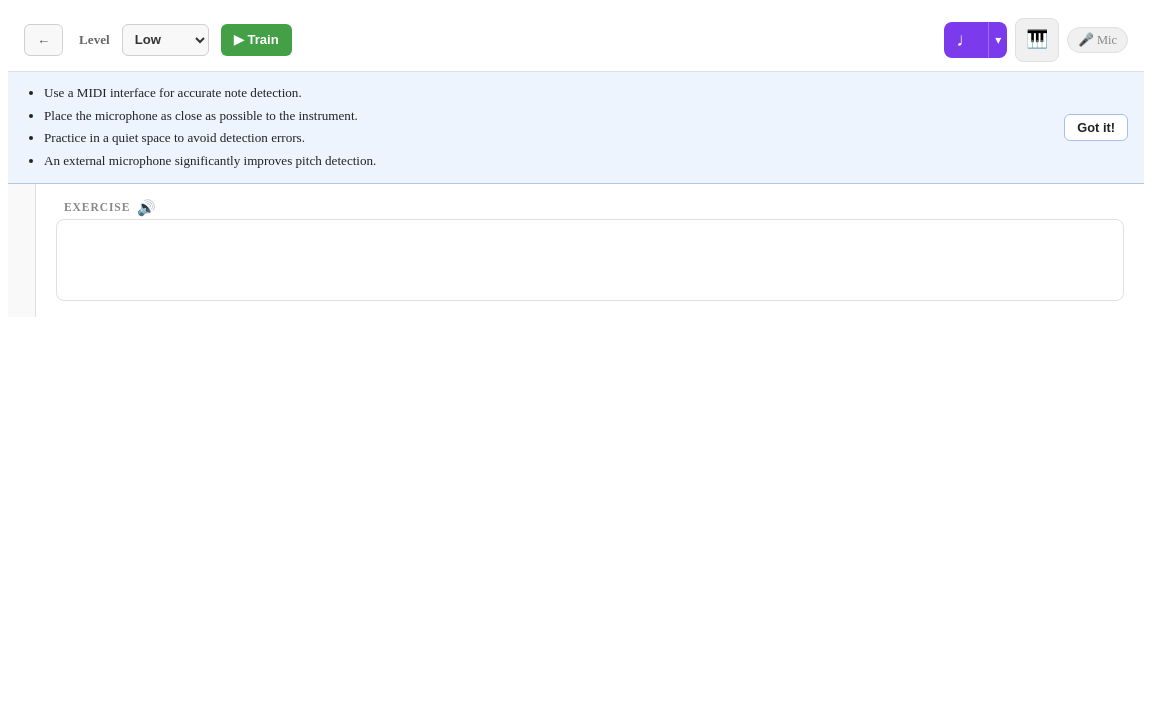
Test: TrainPlugin › results phase › shows a score and result panel after exercise completes
Select "Flow" in the dropdown named "mode" at [29, 224], box [22,210,37,238]
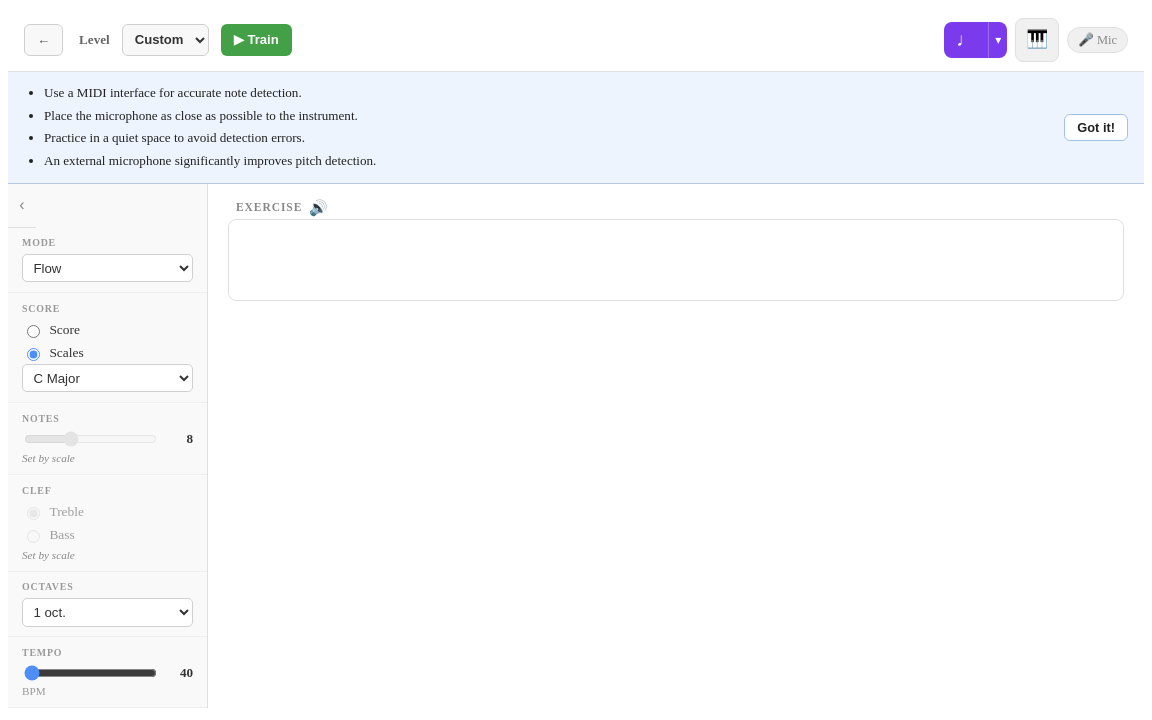
Click the button with test id "train-play-btn" at [256, 40], box [221,24,292,56]
Wait 20000 ms
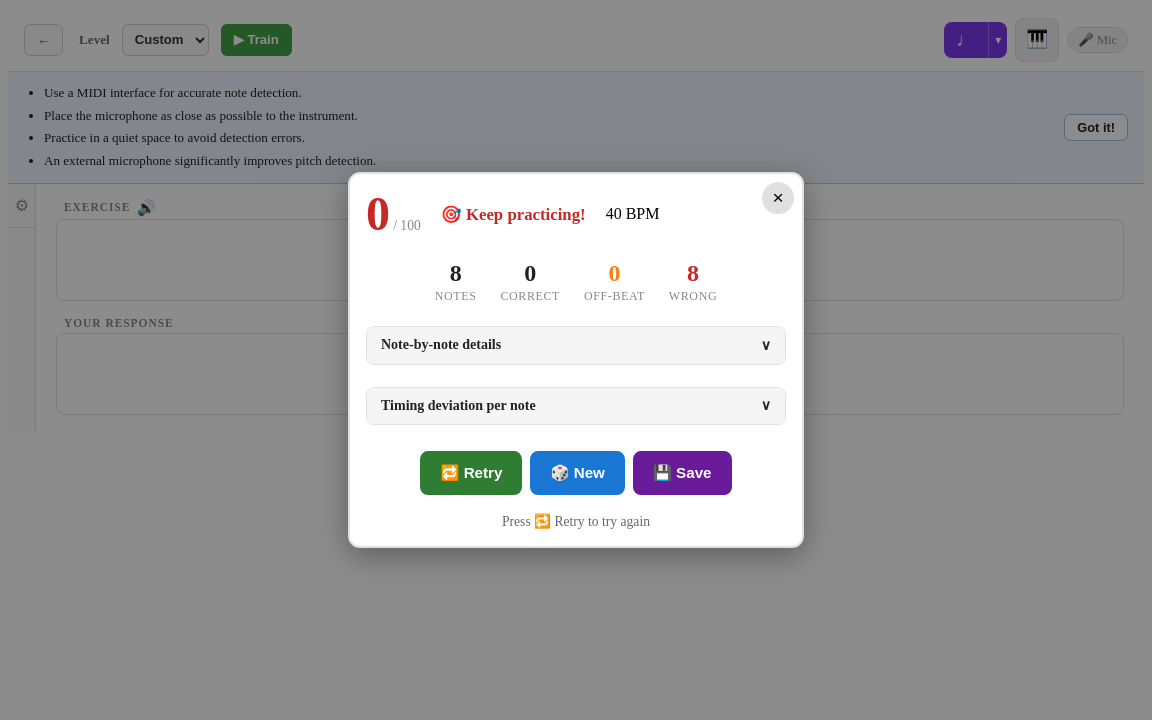
Now the button with test id "train-retry-btn" is shown, box [420,451,522,495]
